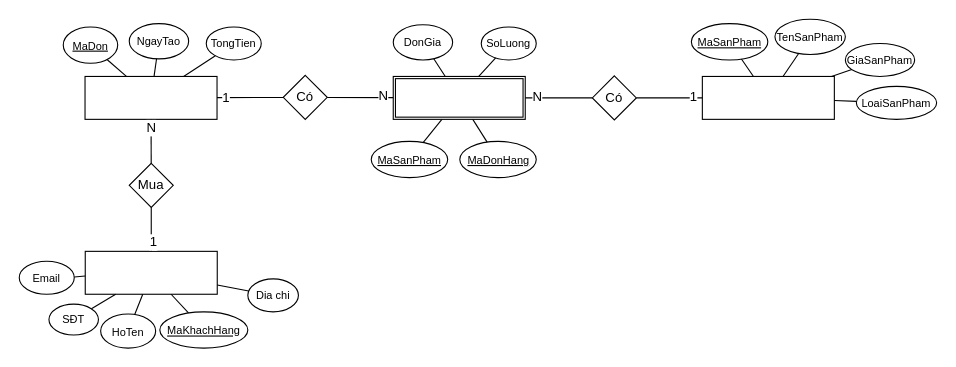
Some shapes in this 956 by 367 pixel diagram are drawn without their labels. The centre of each missing label's shape, as x and y in pixels:
Chi Tiết Đơn Hàng: point (458, 97)
Khách Hàng: point (150, 272)
Sản Phẩm: point (767, 97)
Đơn Hàng: point (150, 97)
